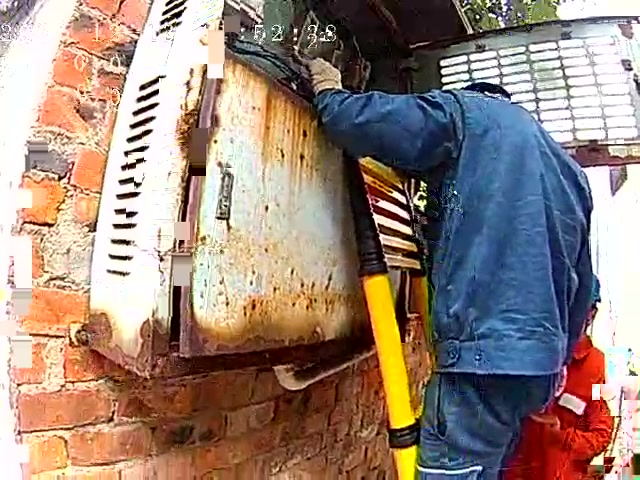downsuit: (409, 362, 556, 480)
person: (318, 59, 610, 480)
upsuit: (310, 82, 597, 380)
wglove: (298, 52, 348, 95)
